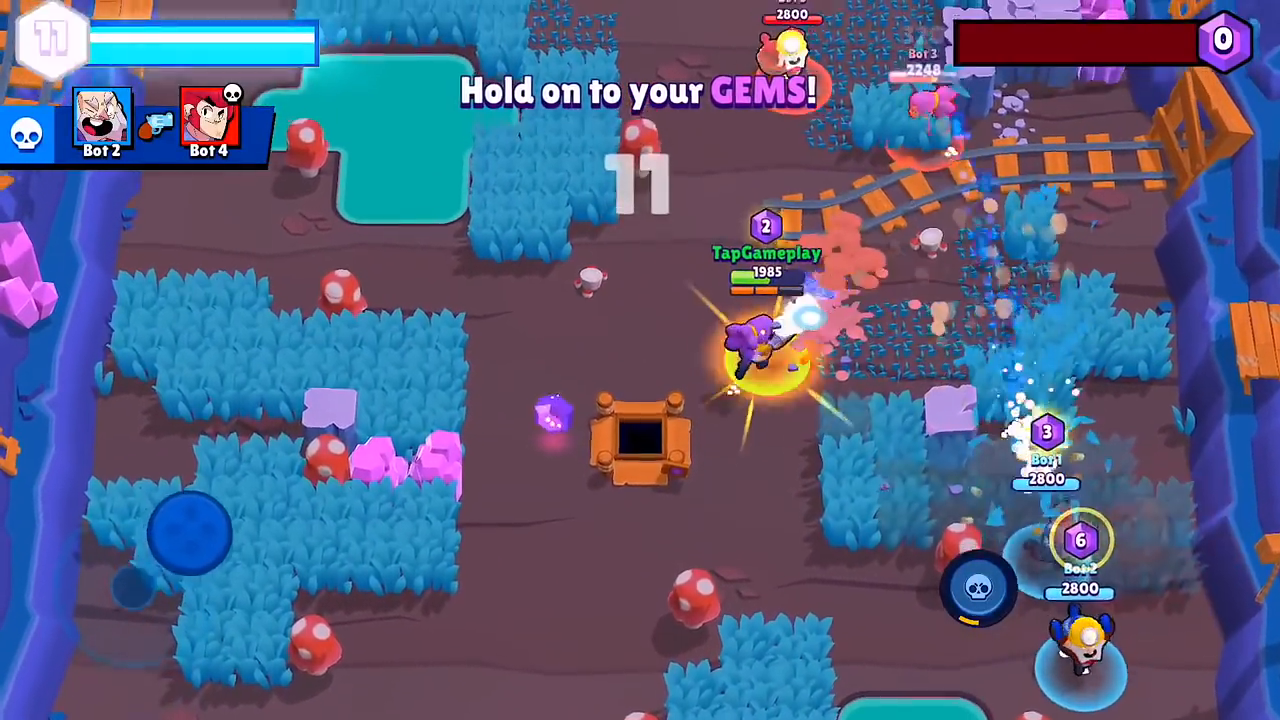move_stick: (145, 493, 231, 572)
red: (877, 63, 969, 163), (751, 9, 832, 110)
